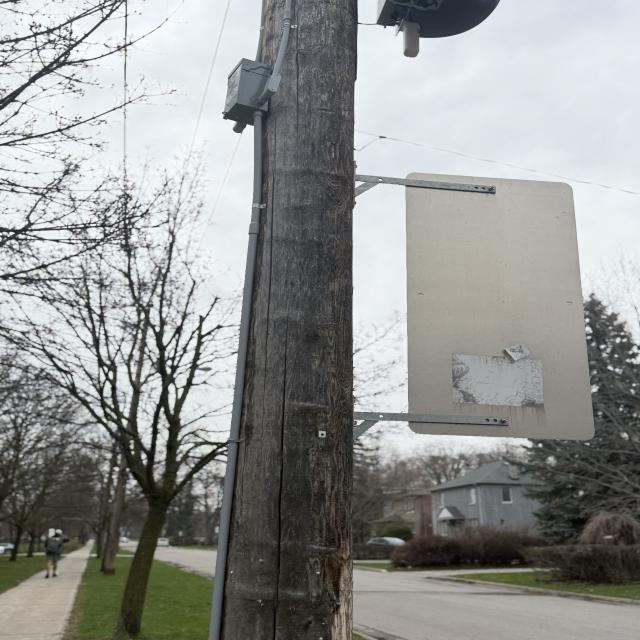Electrical Pole: (207, 0, 503, 640)
